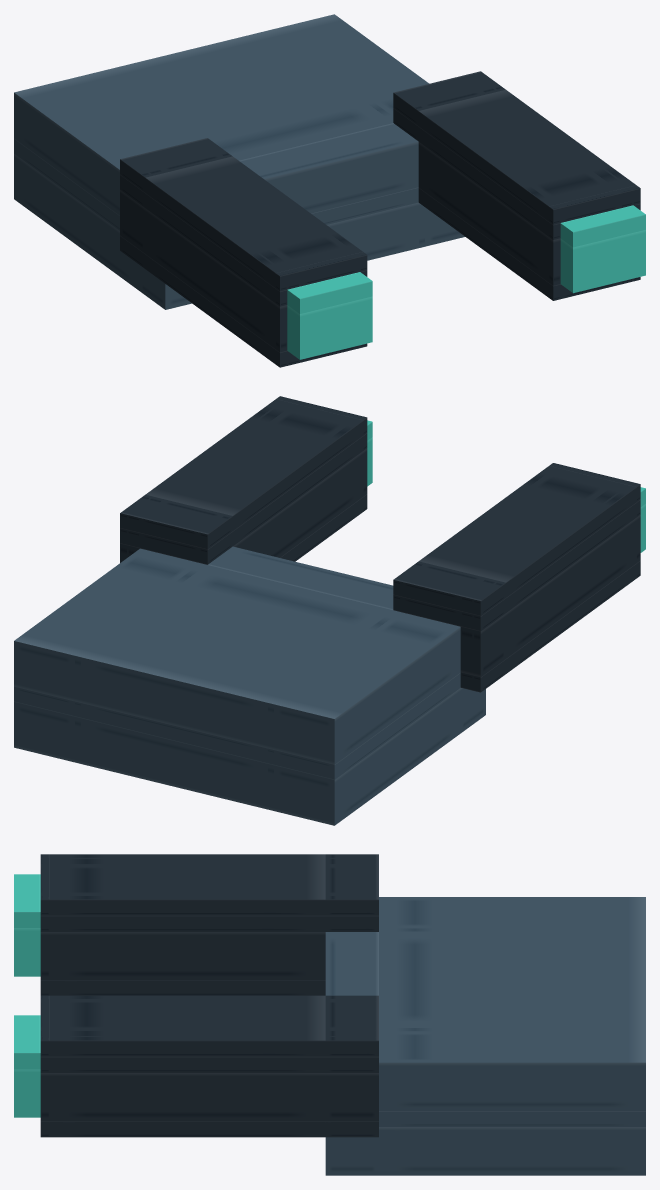
Rendered from sc_pickup_double_laser.obj.
The picture shows the model from 3 angles, top to bottom: view 1: azimuth 30°, elevation 25°; view 2: azimuth 150°, elevation 25°; view 3: azimuth 270°, elevation 25°; orthographic projection. The views are drawn at different scales.
Size of the model in its own units: 7.43 by 2.7 by 10.65.
Materials: 1 (1 with a texture image).
